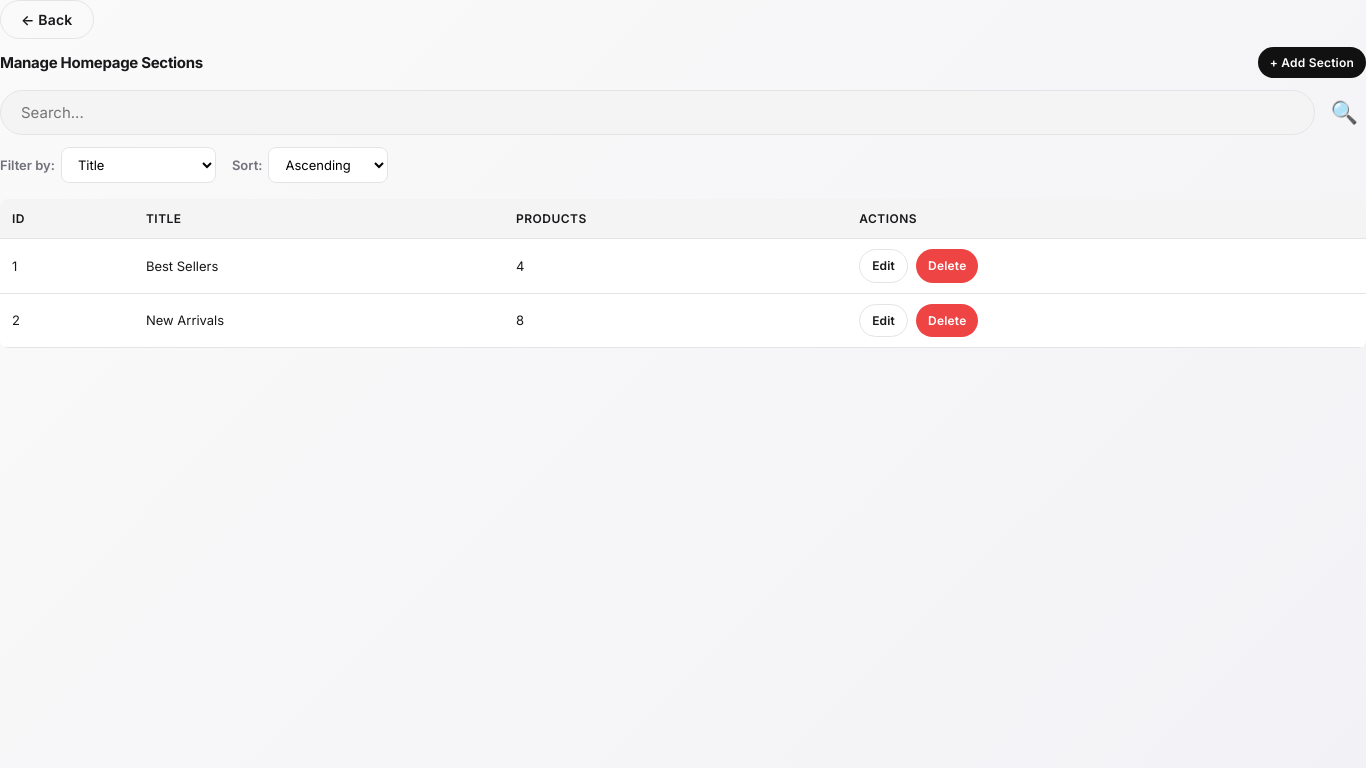
Scenario: AdminHomeSections › Delete › should show confirmation modal when delete clicked
Click the button "Delete" in the row of "Best Sellers" at (947, 266), box [916, 249, 978, 283]
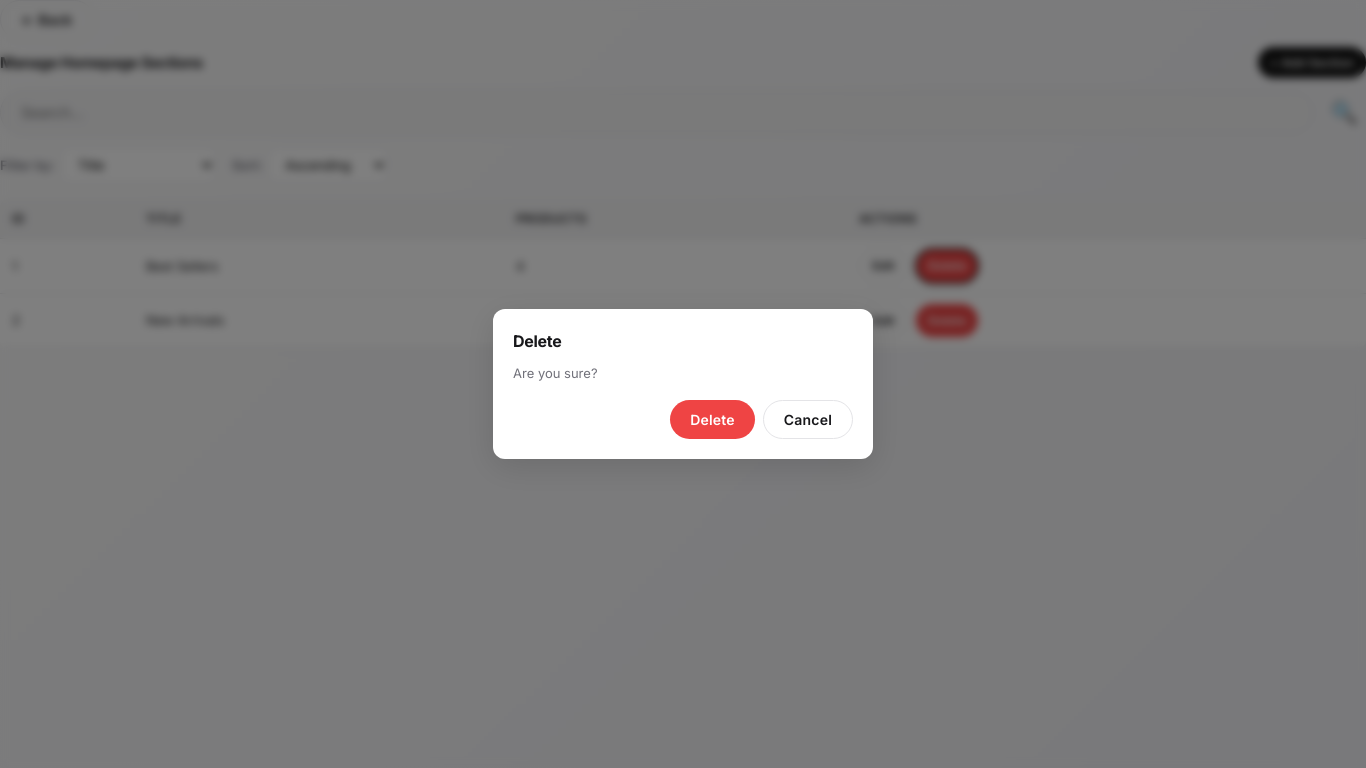
Result: the text "Are you sure?" is shown at [513, 365, 598, 381]
